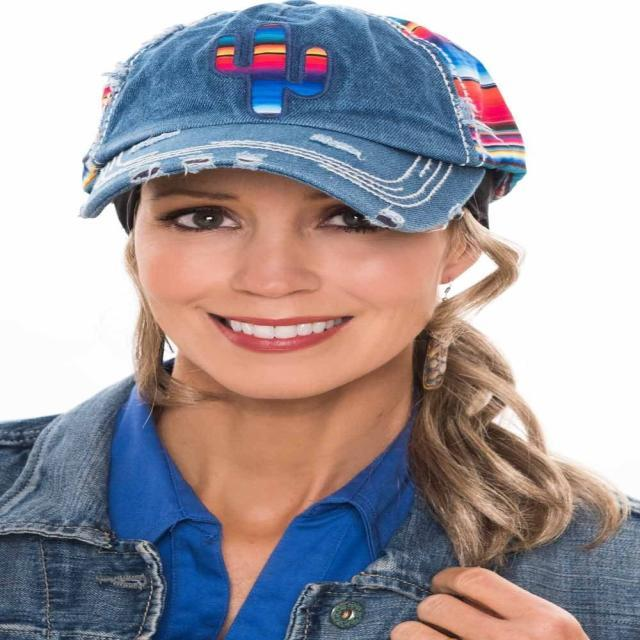hat: (72, 10, 512, 233)
